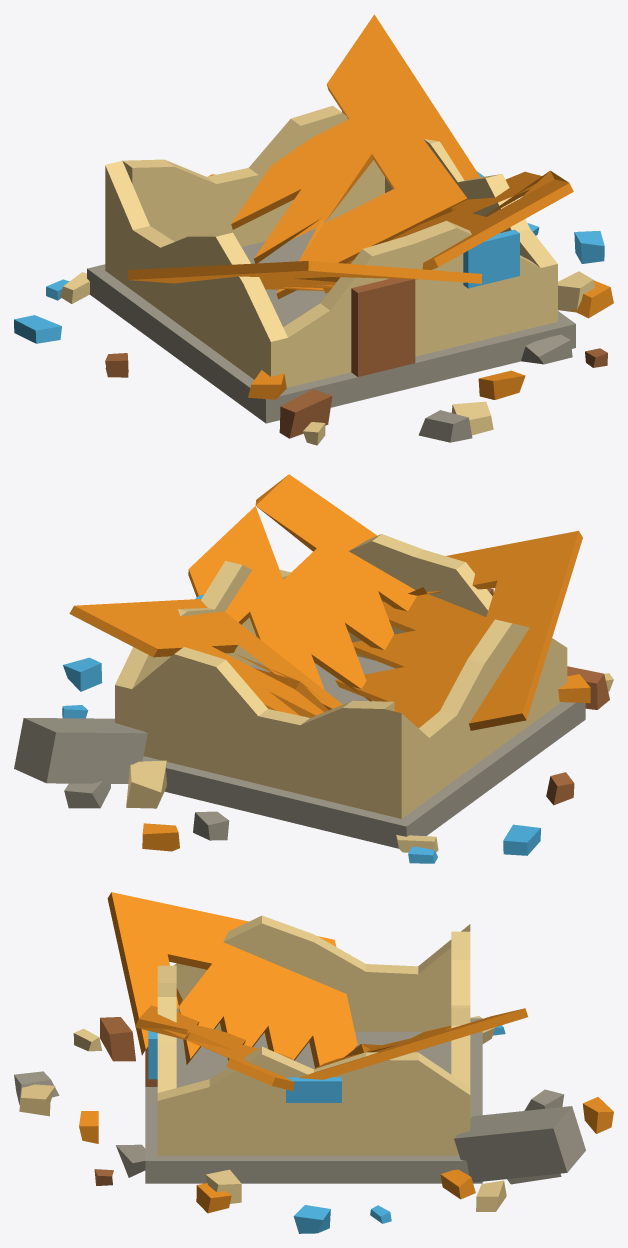
File: house_t1_v1_dmg2.glb
3 renders of one model, top to bottom at view 1: azimuth 30°, elevation 25°; view 2: azimuth 150°, elevation 25°; view 3: azimuth 270°, elevation 25°, orthographic. The views are drawn at different scales.
Visible parts, largest first — view 1: house_t1_v1_dmg2; view 2: house_t1_v1_dmg2; view 3: house_t1_v1_dmg2.
Part boxes in pixels (x1,y1,x2,y2): house_t1_v1_dmg2: (14, 14, 613, 445); house_t1_v1_dmg2: (14, 474, 613, 863); house_t1_v1_dmg2: (14, 892, 613, 1233).
Size of the model in its own units: 0.9156 by 0.3098 by 0.96.
Materials: 1 (1 with a texture image).
